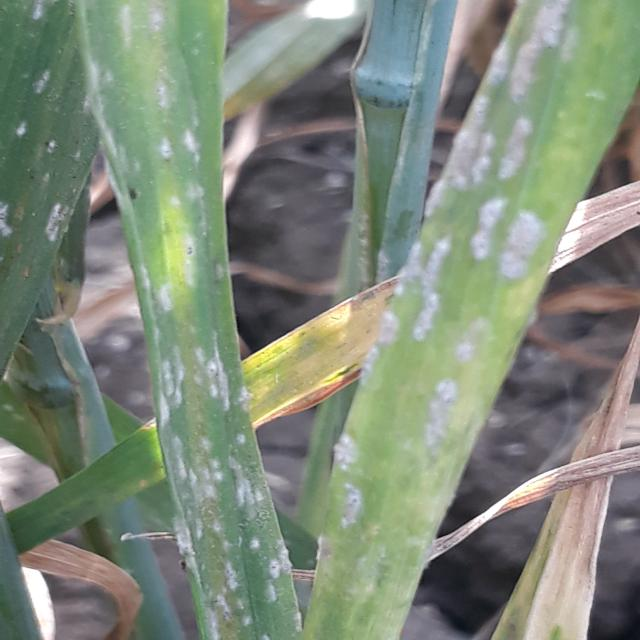powder_mildew: (308, 3, 640, 640), (76, 0, 308, 640), (0, 3, 110, 416)
